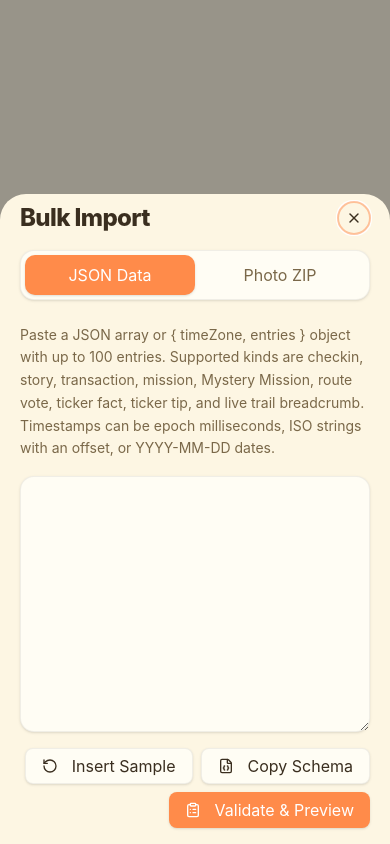
Test case: BulkImportSheet › copies the schema to clipboard and shows feedback
Click the button "Copy Schema": {"x": 285, "y": 766} [200,748,370,784]
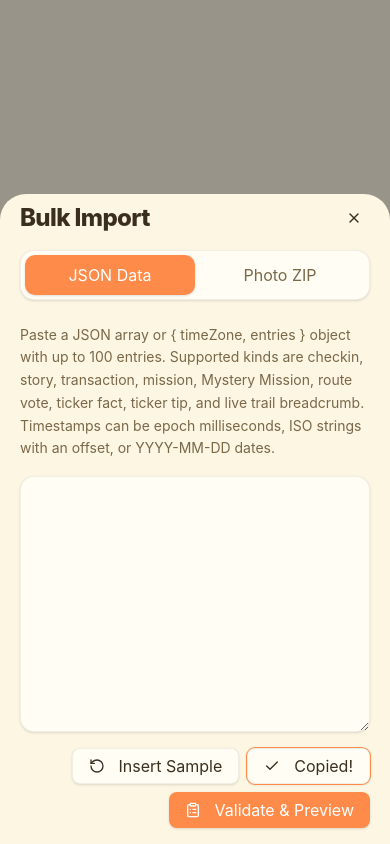
Result: the button "Copied!" is shown at [247,748,370,784]
